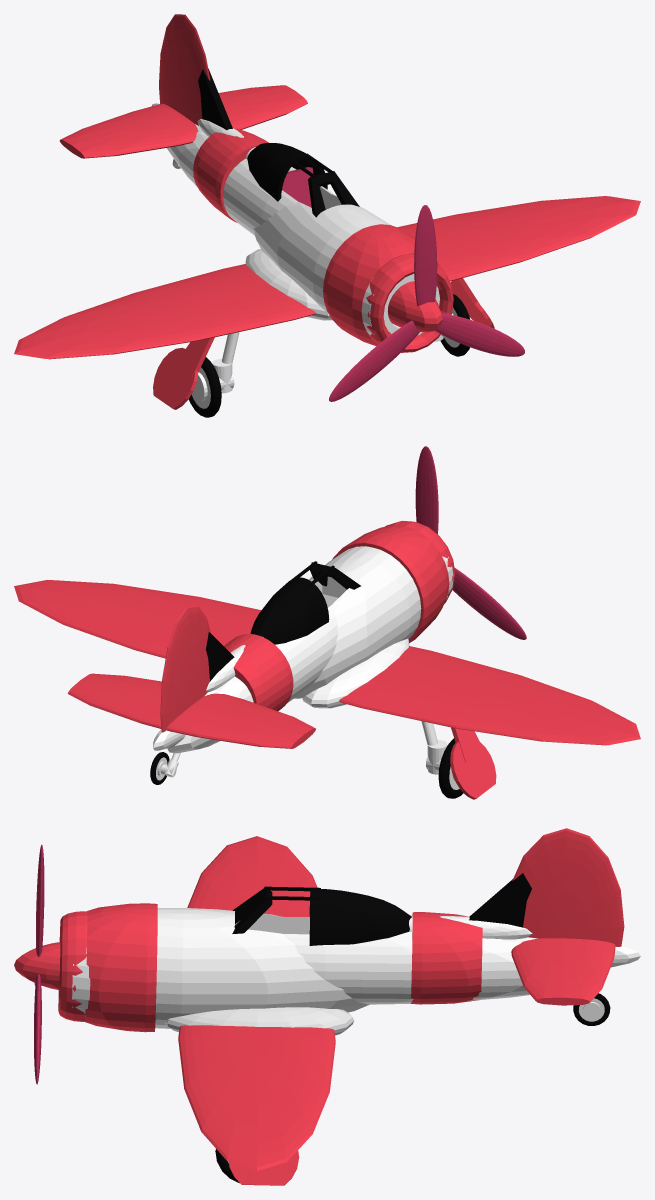
Rendered from airplane_005.glb.
3 views of the same model, one above another, from view 1: azimuth 30°, elevation 25°; view 2: azimuth 150°, elevation 25°; view 3: azimuth 270°, elevation 25° (orthographic). The views are drawn at different scales.
Parts seen in each view (by area): view 1: object_0; view 2: object_0; view 3: object_0.
Part boxes in pixels (x1,y1,x2,y2): object_0: (14, 14, 640, 417); object_0: (14, 446, 640, 799); object_0: (14, 828, 640, 1185).
Bounding box in the file's own units: 5.98 × 2.41 × 4.73.
